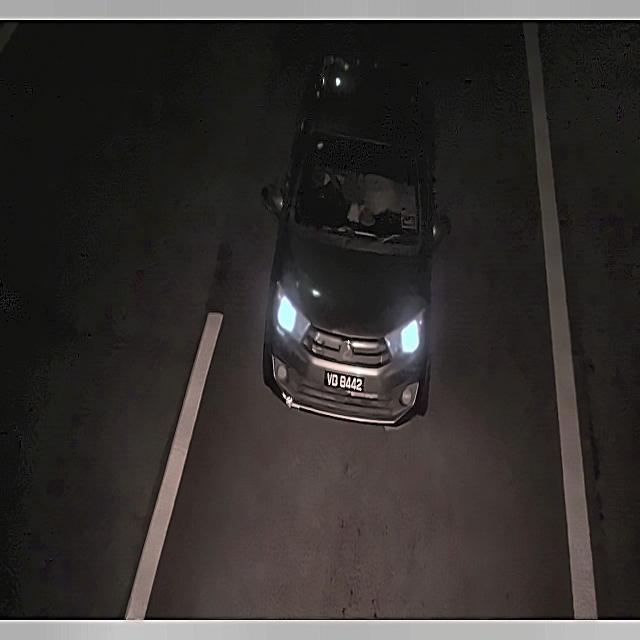car: (322, 367, 367, 401)
